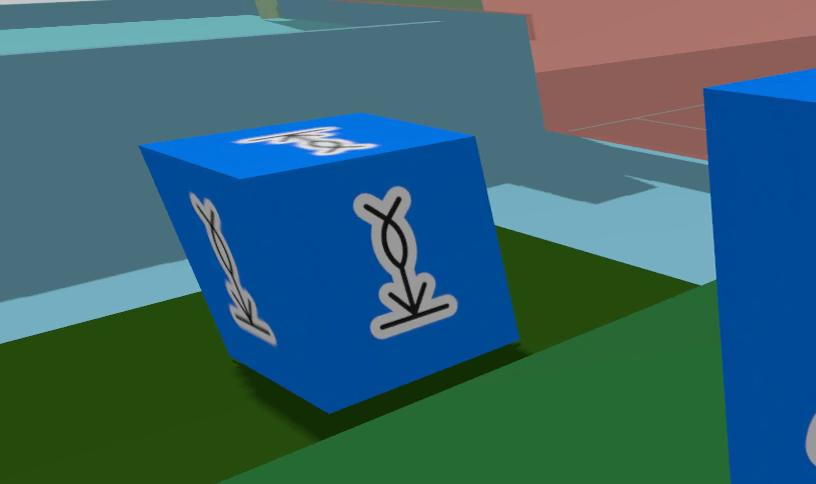KFS_REAL: (139, 114, 518, 412), (705, 68, 816, 484), (354, 186, 457, 338), (189, 193, 275, 345), (236, 126, 377, 156), (805, 412, 816, 466)
